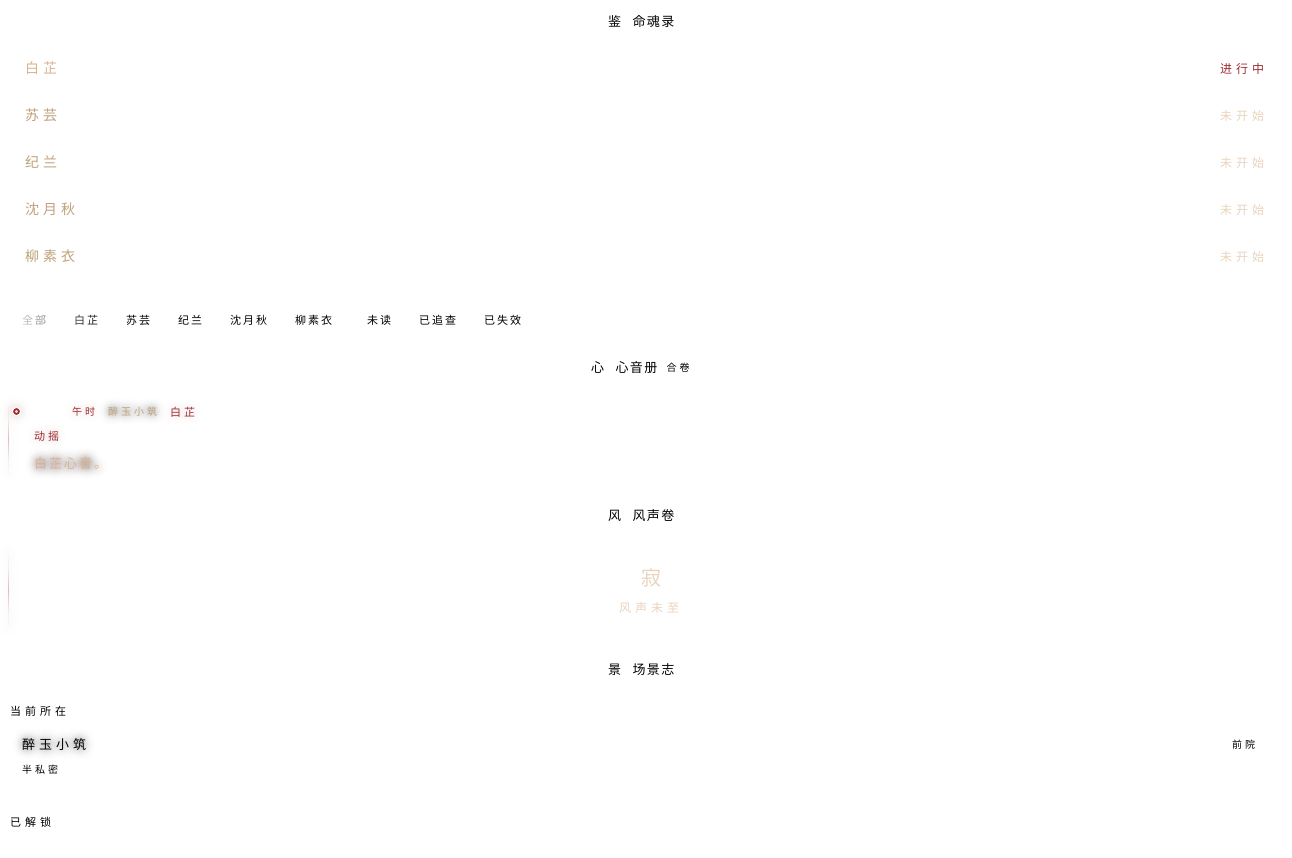
it: GalleryPage › 可折叠与展开心音册
Expected: the button with class "soul-archive-item" is shown, [22,394,1280,485]
Click the button "合卷": x=680, y=368 [666,360,692,375]
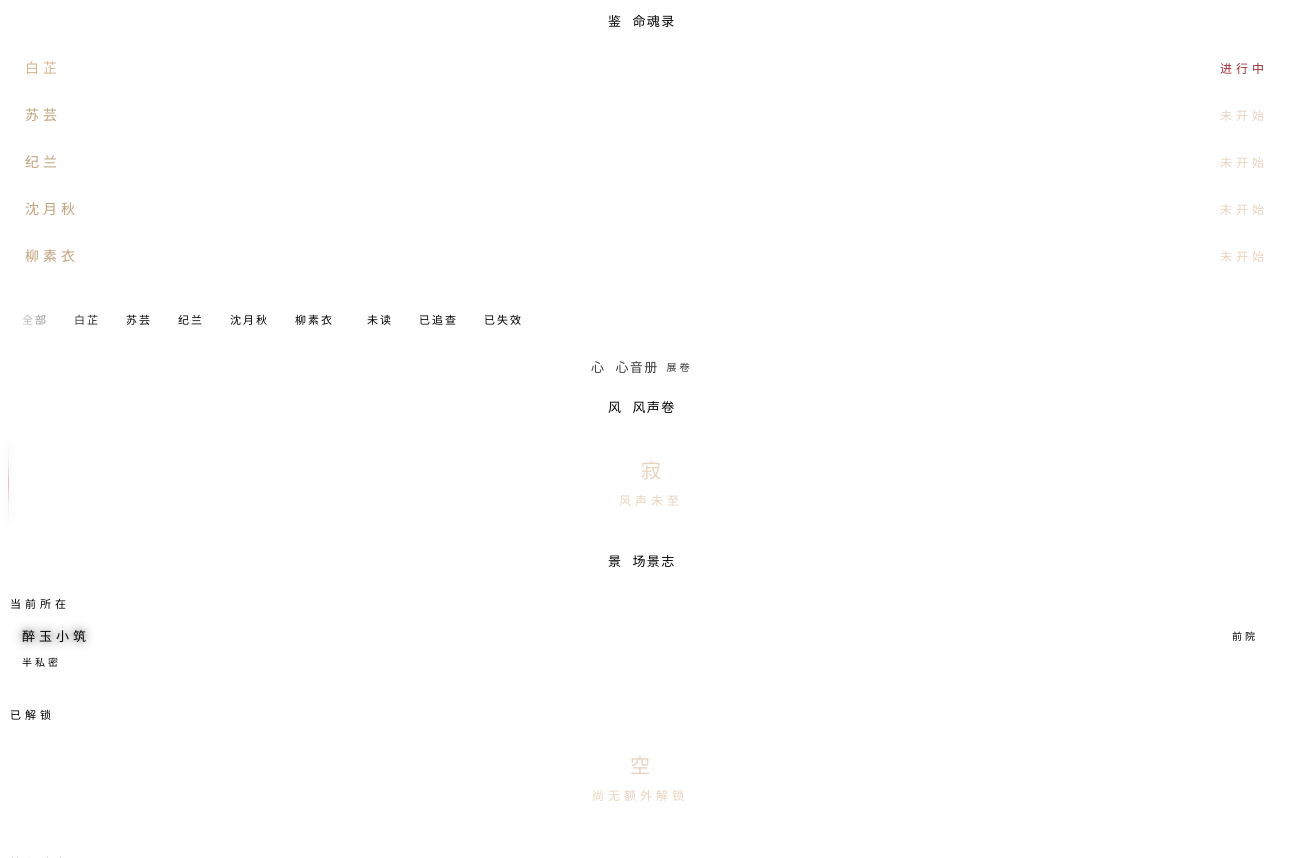
Result: the element with class "soul-archive-section" has class "is-collapsed" at [591,360,692,375]
Click the button "展卷": x=680, y=368 [666,360,692,375]
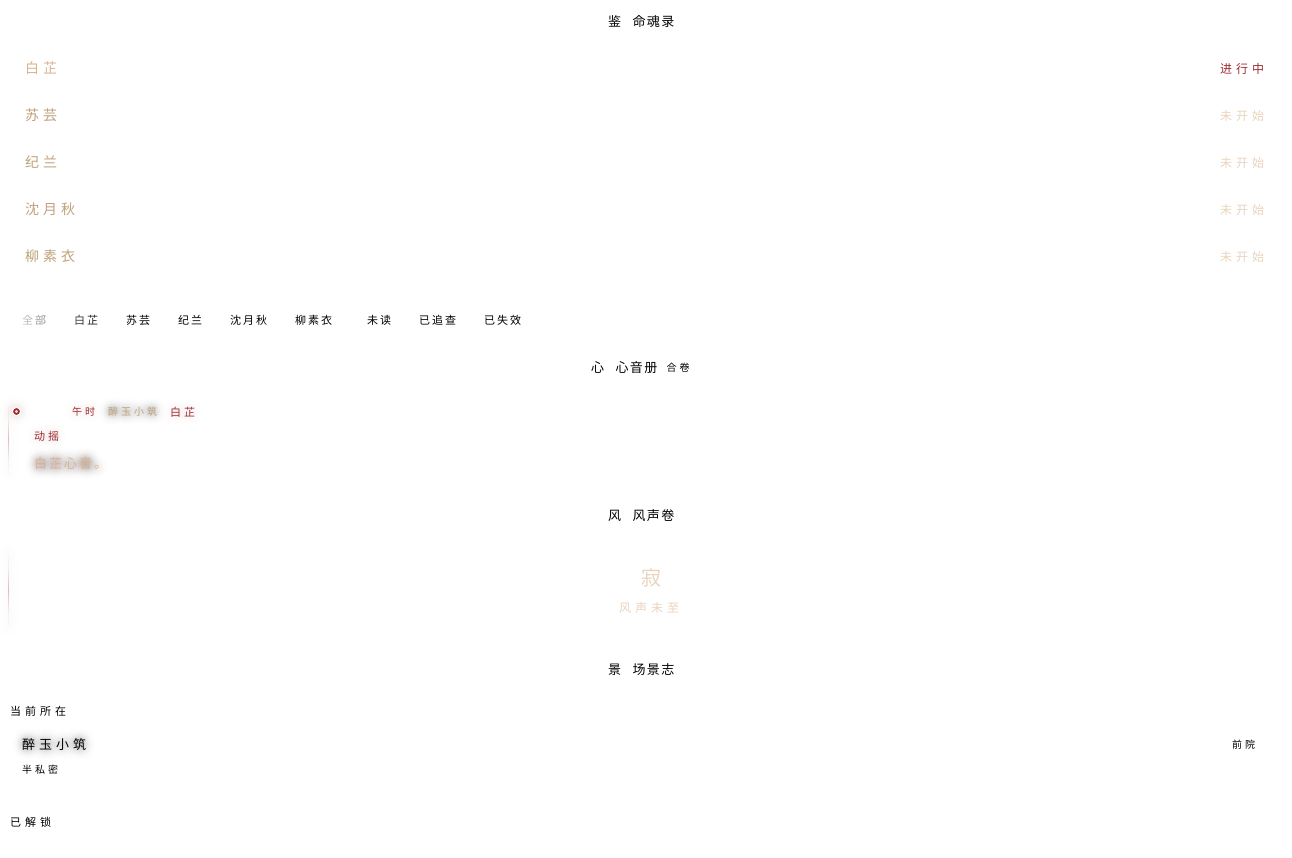
Result: the button with class "soul-archive-item" is shown at [22,394,1280,485]
